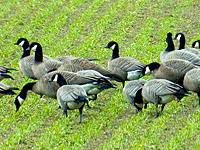goose: (11, 61, 115, 111), (47, 72, 90, 123), (134, 78, 186, 113), (104, 40, 144, 79), (13, 37, 52, 75), (26, 42, 63, 74), (144, 59, 200, 79), (49, 61, 111, 75), (122, 78, 149, 108), (174, 32, 199, 57), (161, 32, 175, 58), (191, 38, 200, 49)
